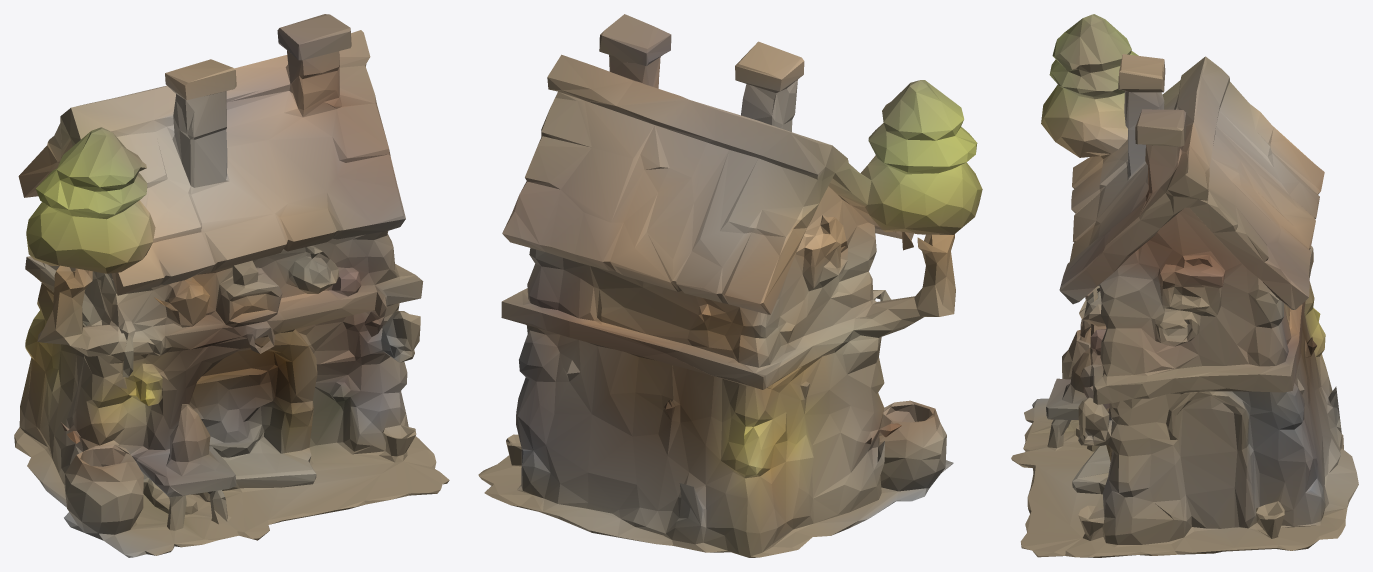
Rendered from demirci.glb.
The picture shows the model from 3 angles, left to right: view 1: azimuth 30°, elevation 25°; view 2: azimuth 150°, elevation 25°; view 3: azimuth 270°, elevation 25°; orthographic projection. The views are drawn at different scales.
Parts seen in each view (by area): view 1: geometry_0; view 2: geometry_0; view 3: geometry_0.
Boxes of the visible parts, x1,y1,x2,y2 form: geometry_0: (14, 14, 449, 557); geometry_0: (478, 14, 982, 557); geometry_0: (1011, 14, 1358, 557).
Bounding box in the file's own units: 0.9675 × 1 × 0.7681.
